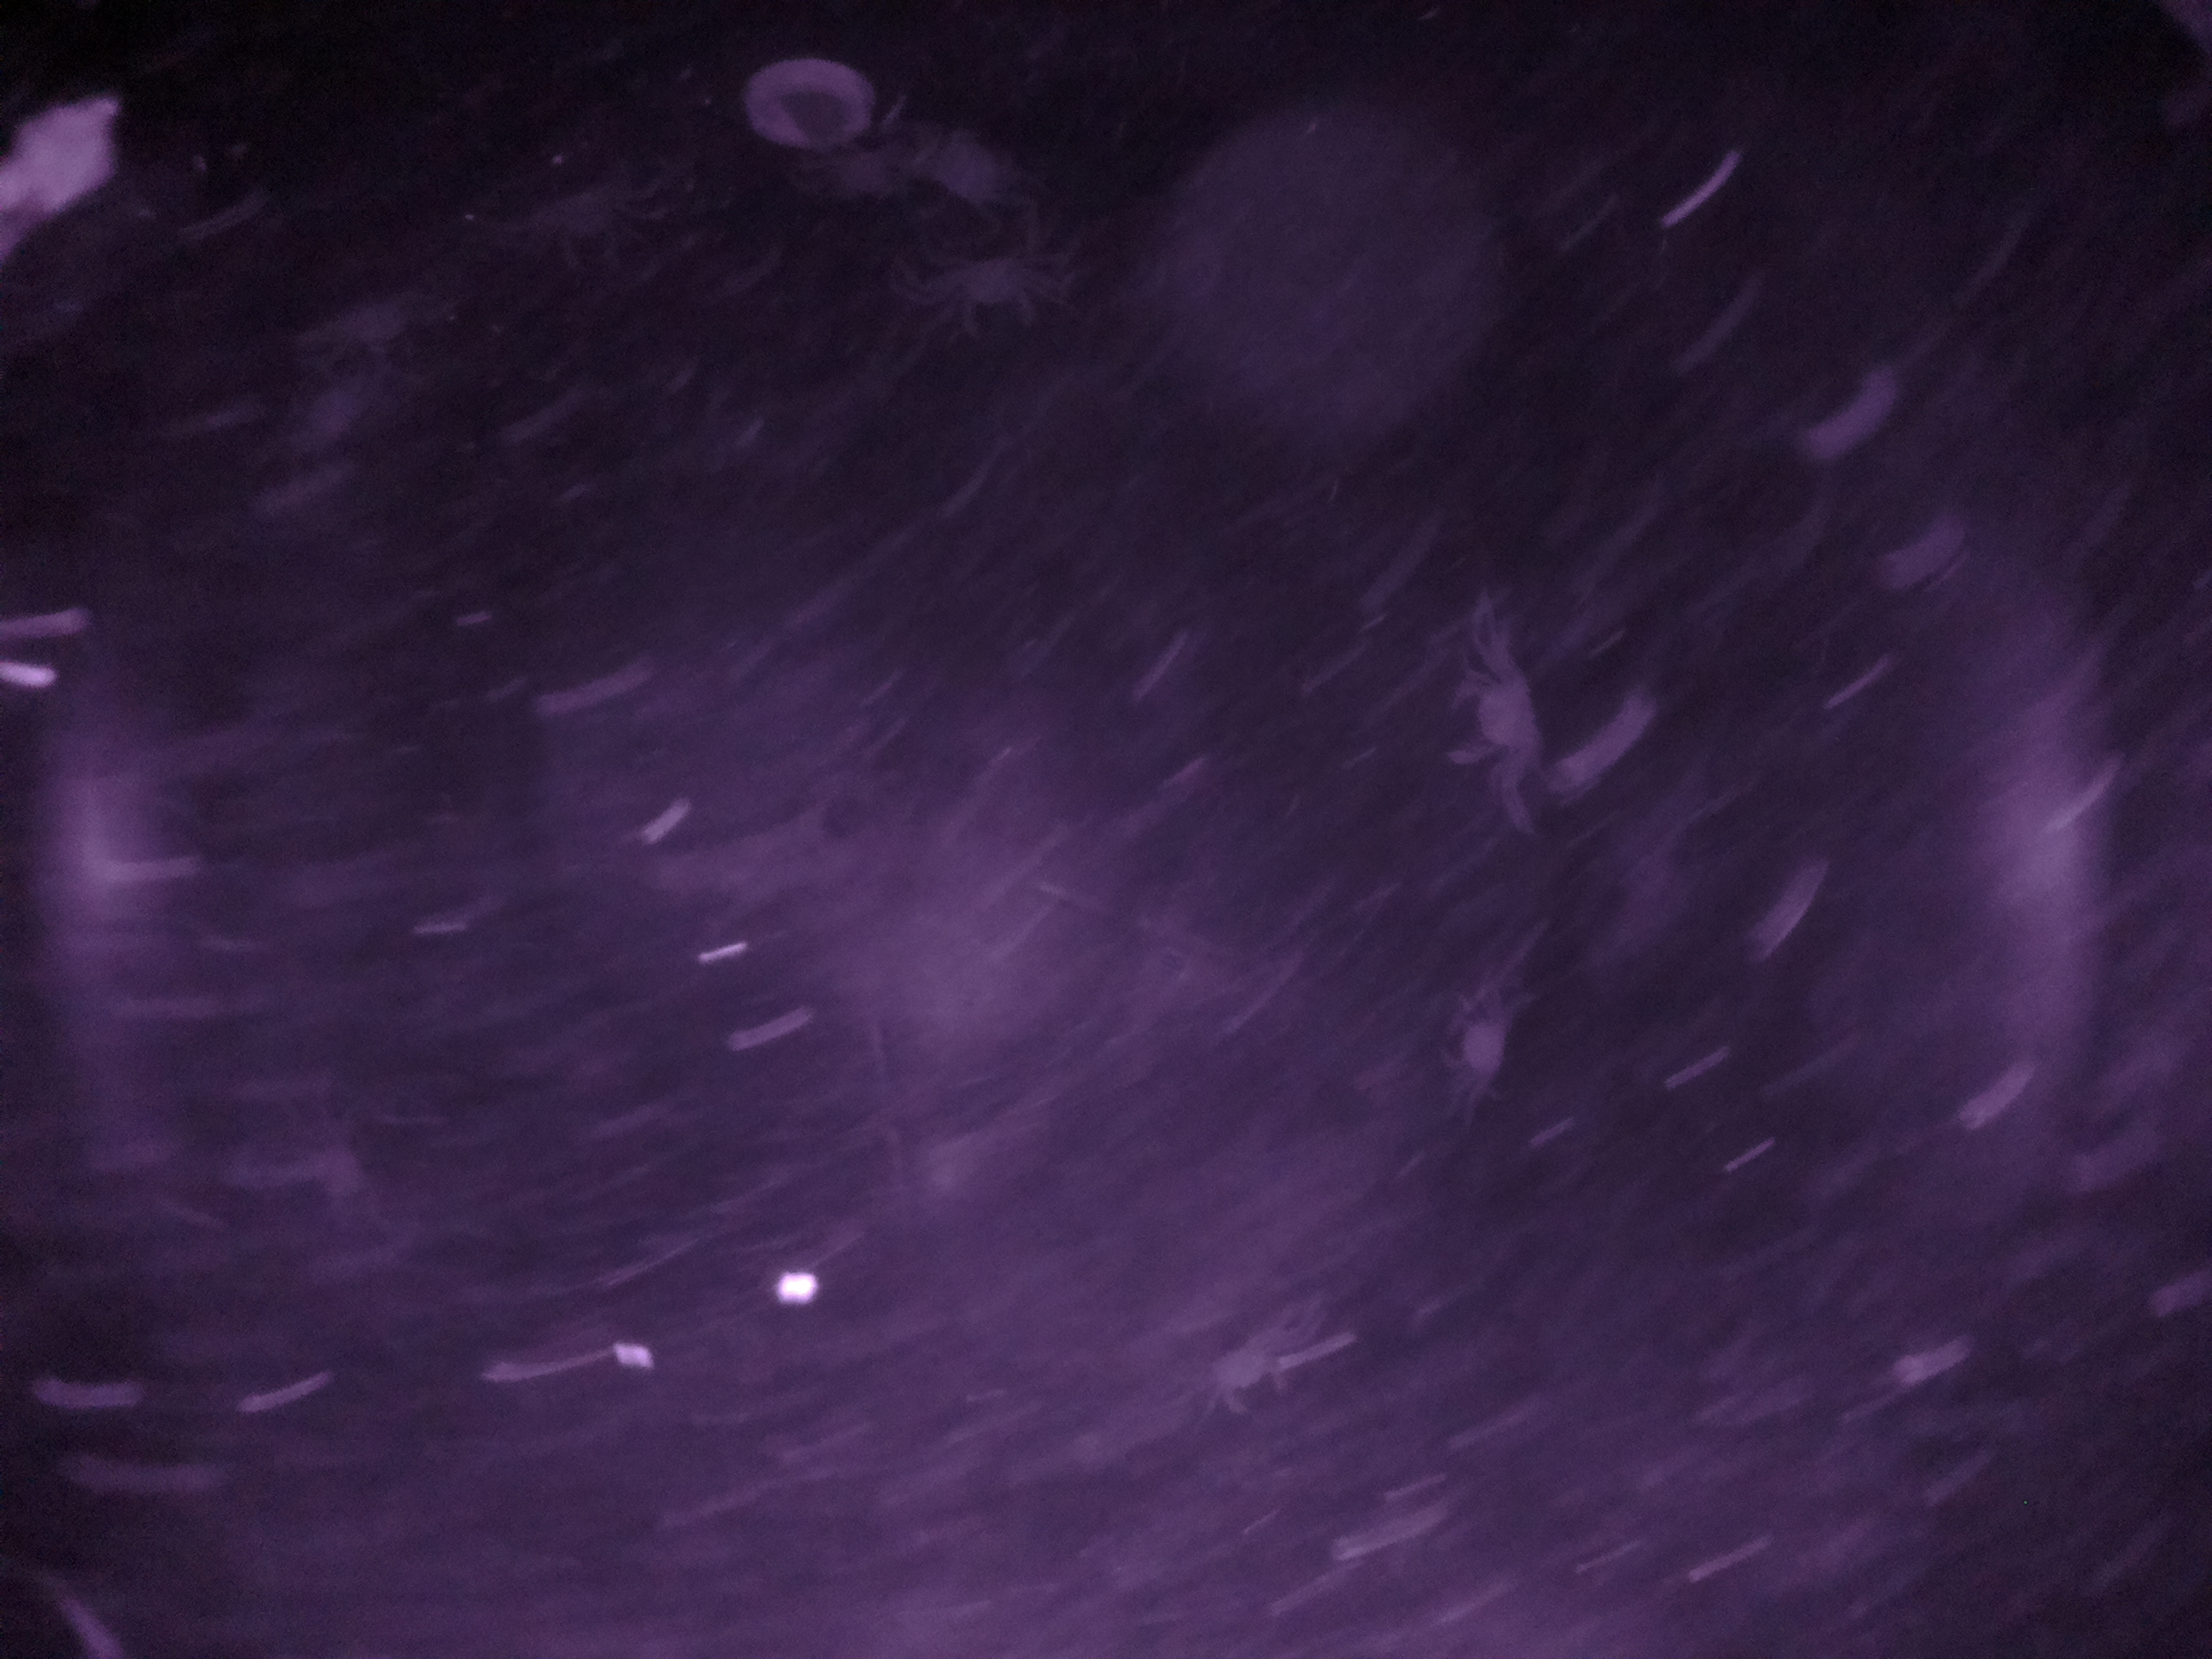Crab: (1428, 638, 1571, 786), (934, 232, 1054, 354), (1184, 1319, 1301, 1429), (1411, 990, 1538, 1086)
